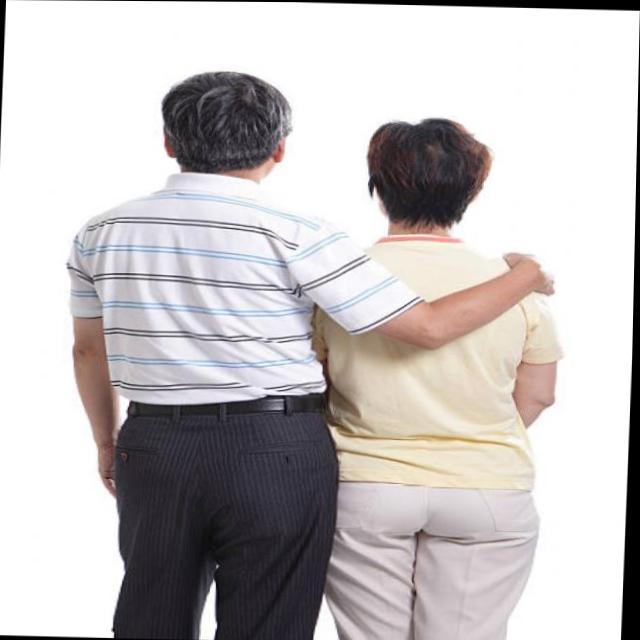no helmet: (347, 109, 499, 255), (137, 54, 313, 177)
